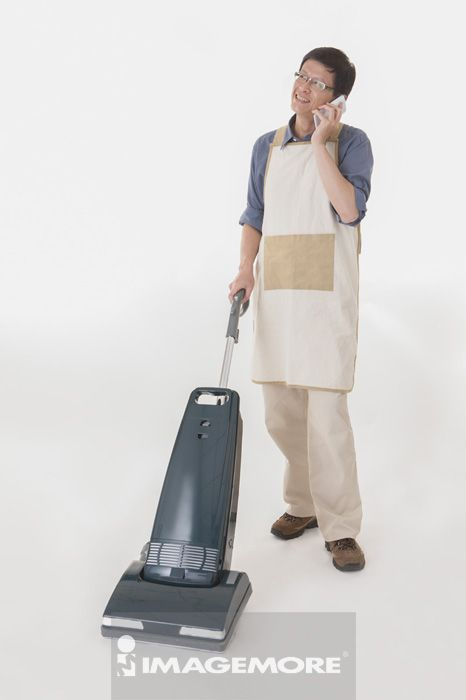talk: (290, 67, 348, 147)
